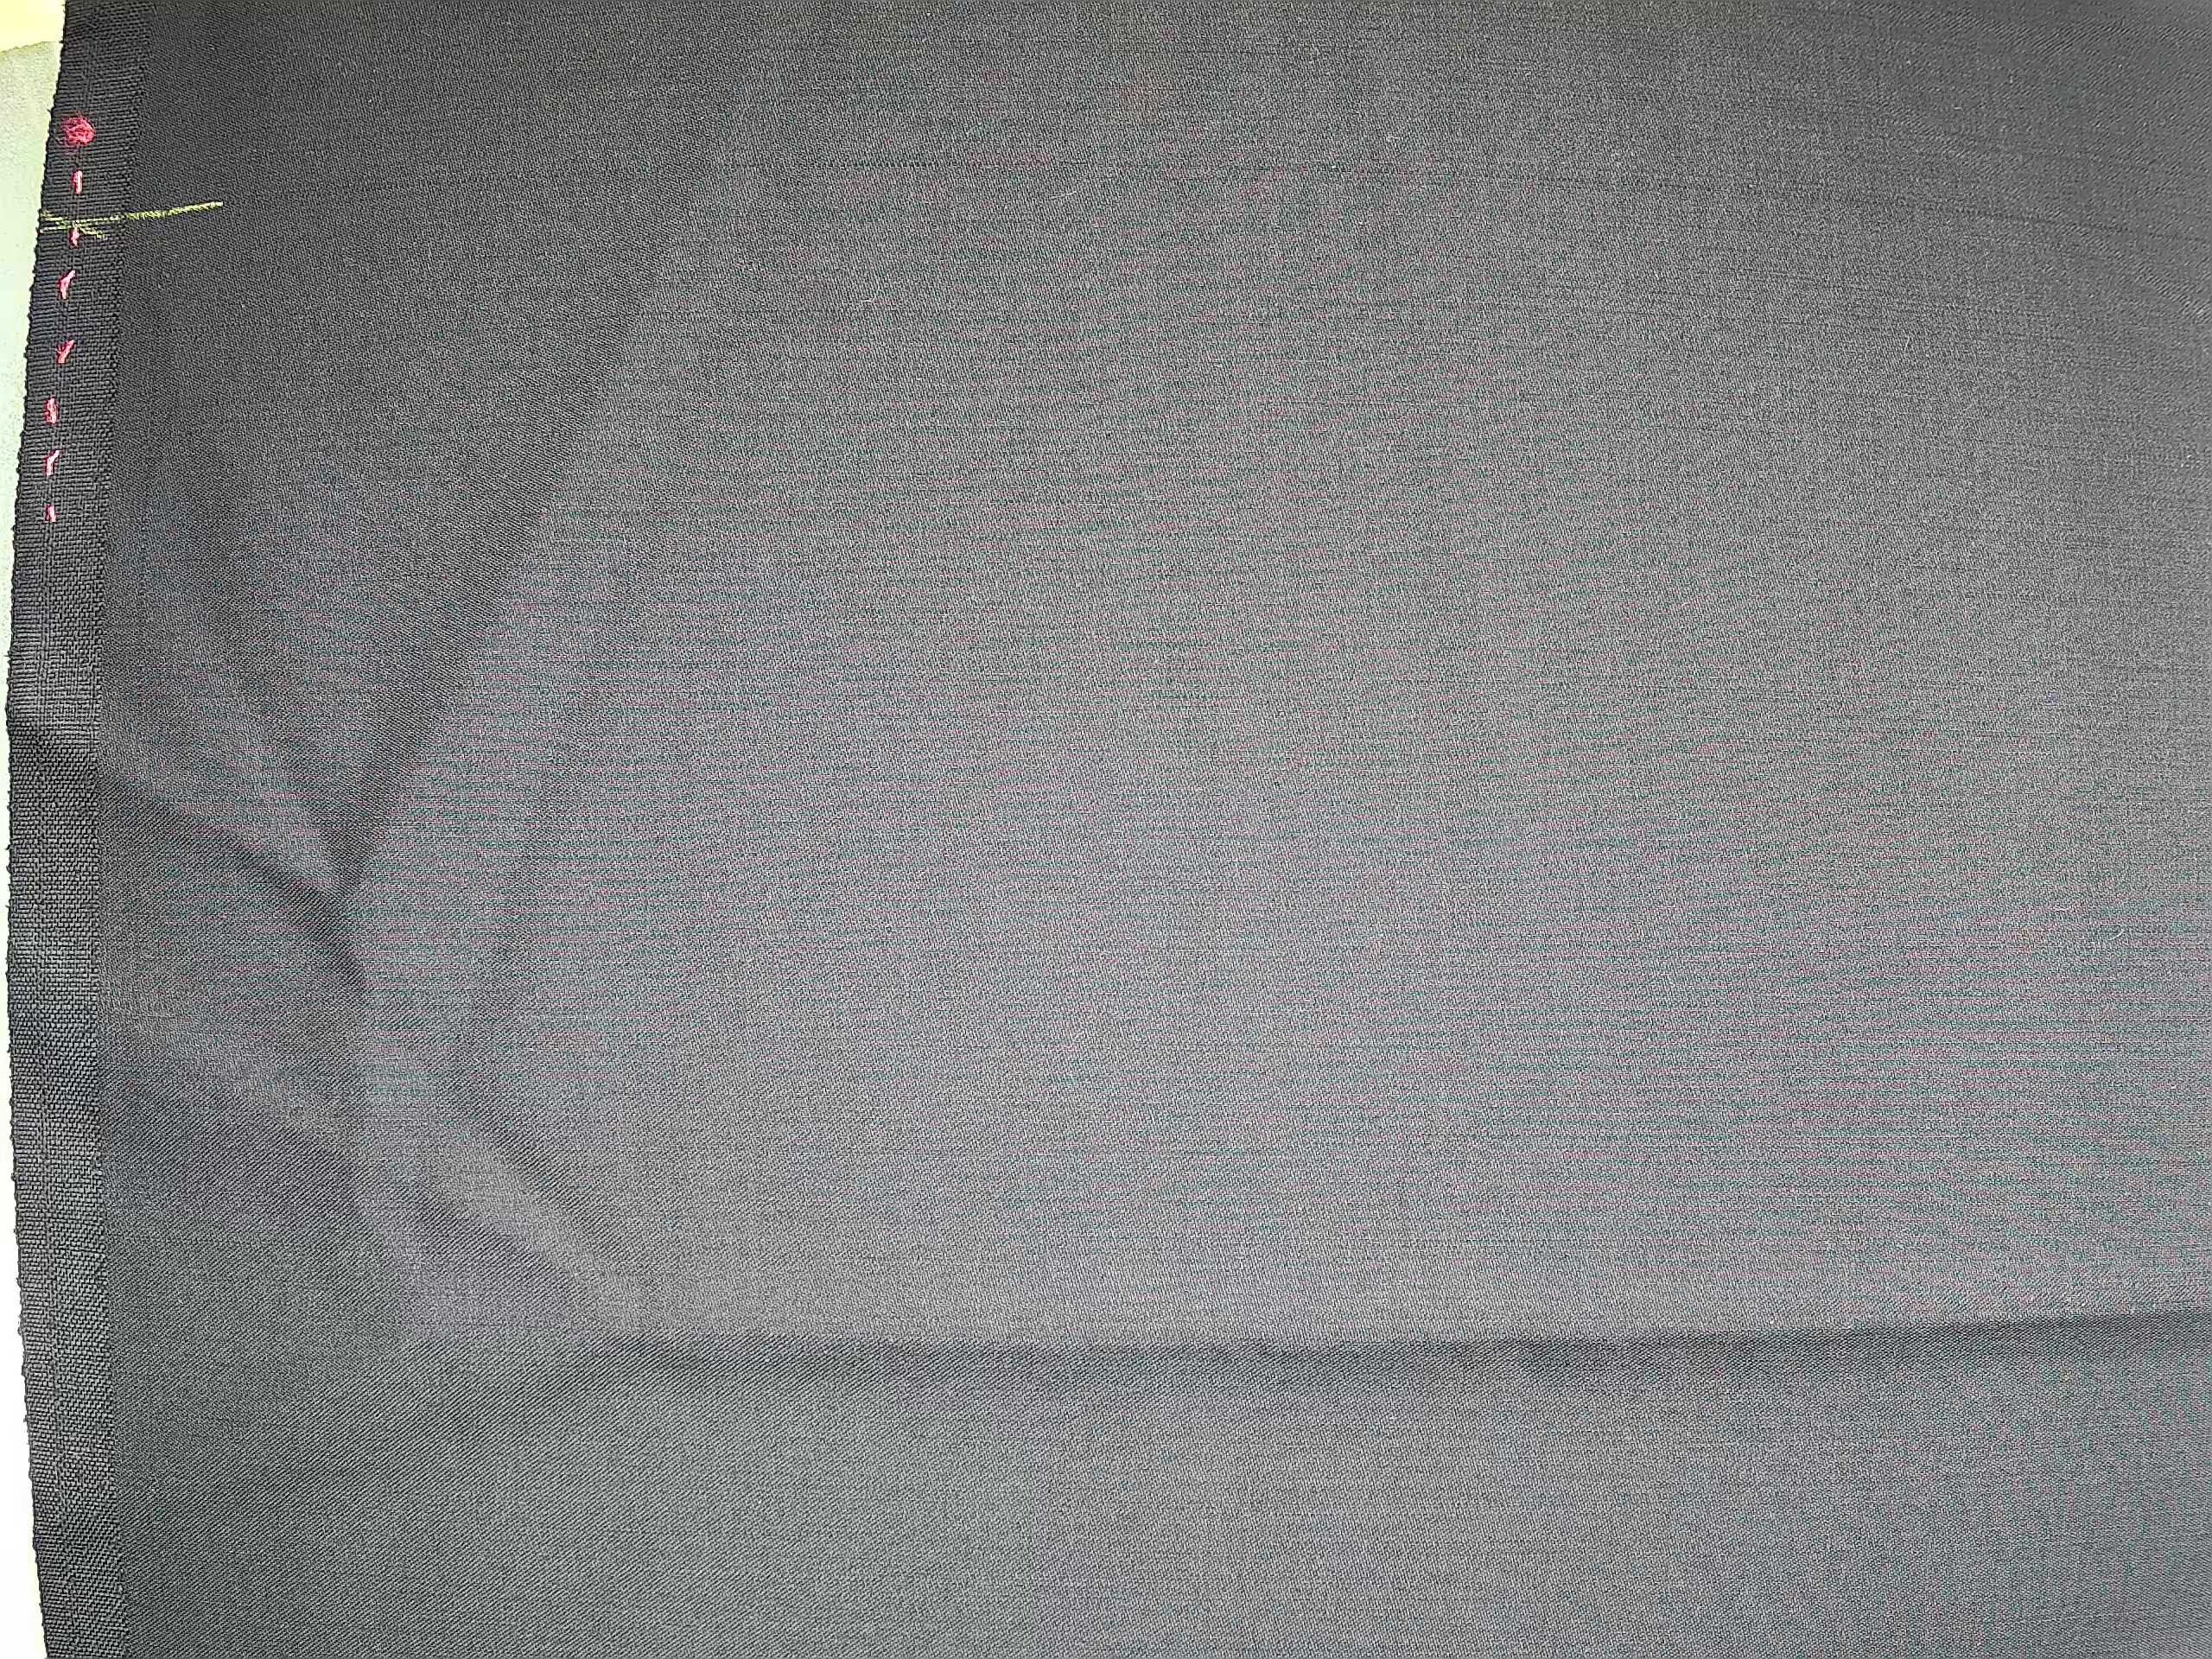hanging-warp: (129, 216, 167, 723)
others: (172, 152, 2193, 249)
